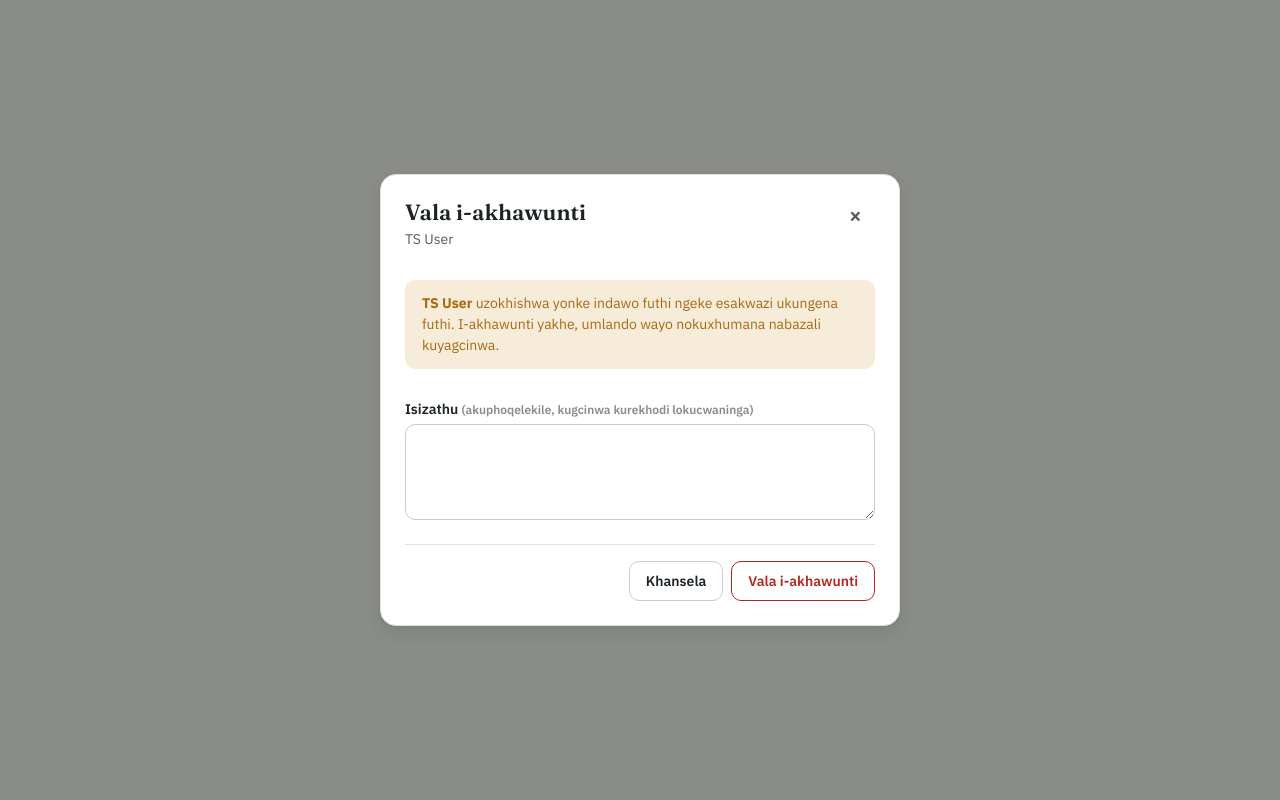
Test case: LIN-22 administrator UI › in isiZulu: a deactivation refusal from the server is shown in isiZulu
Click the button "Vala i-akhawunti" at (803, 581), box [731,561,875,601]
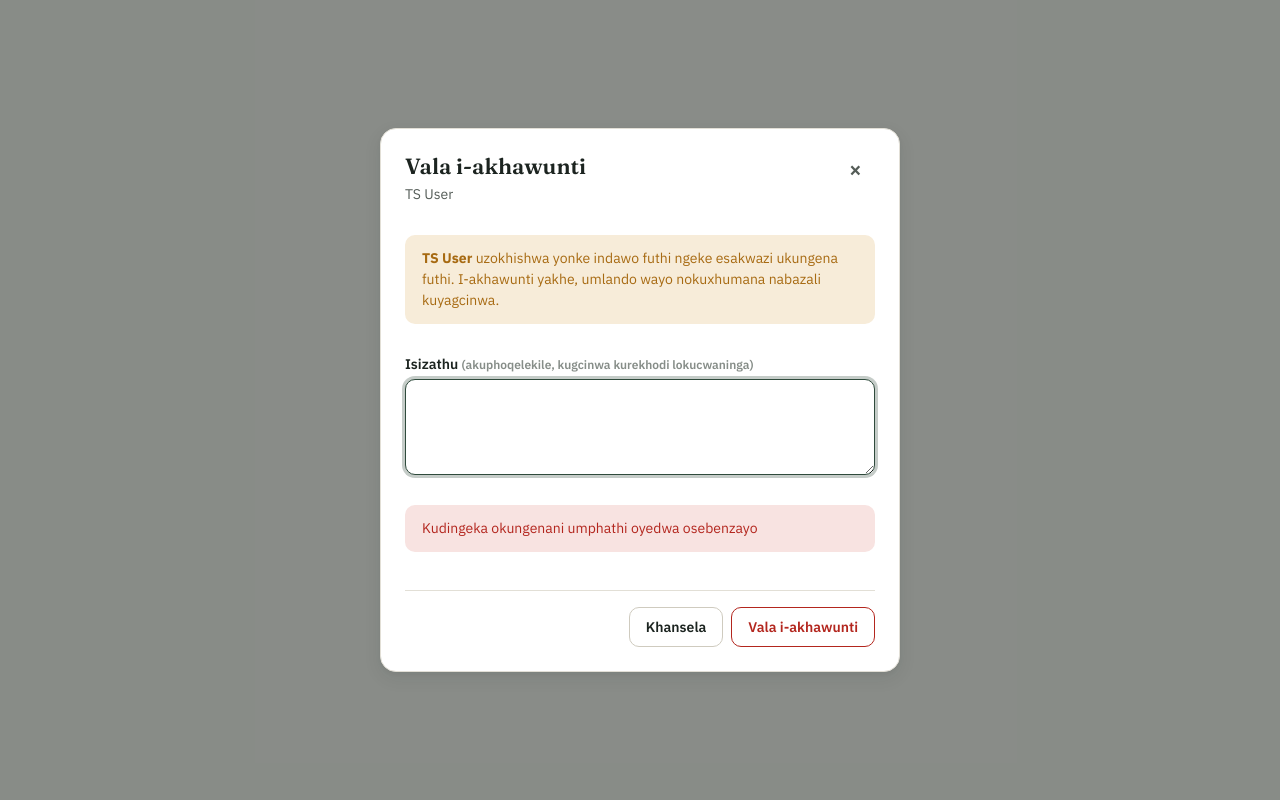
Expected: the message "Kudingeka okungenani umphathi oyedwa osebenzayo" is shown, [405,505,875,552]
